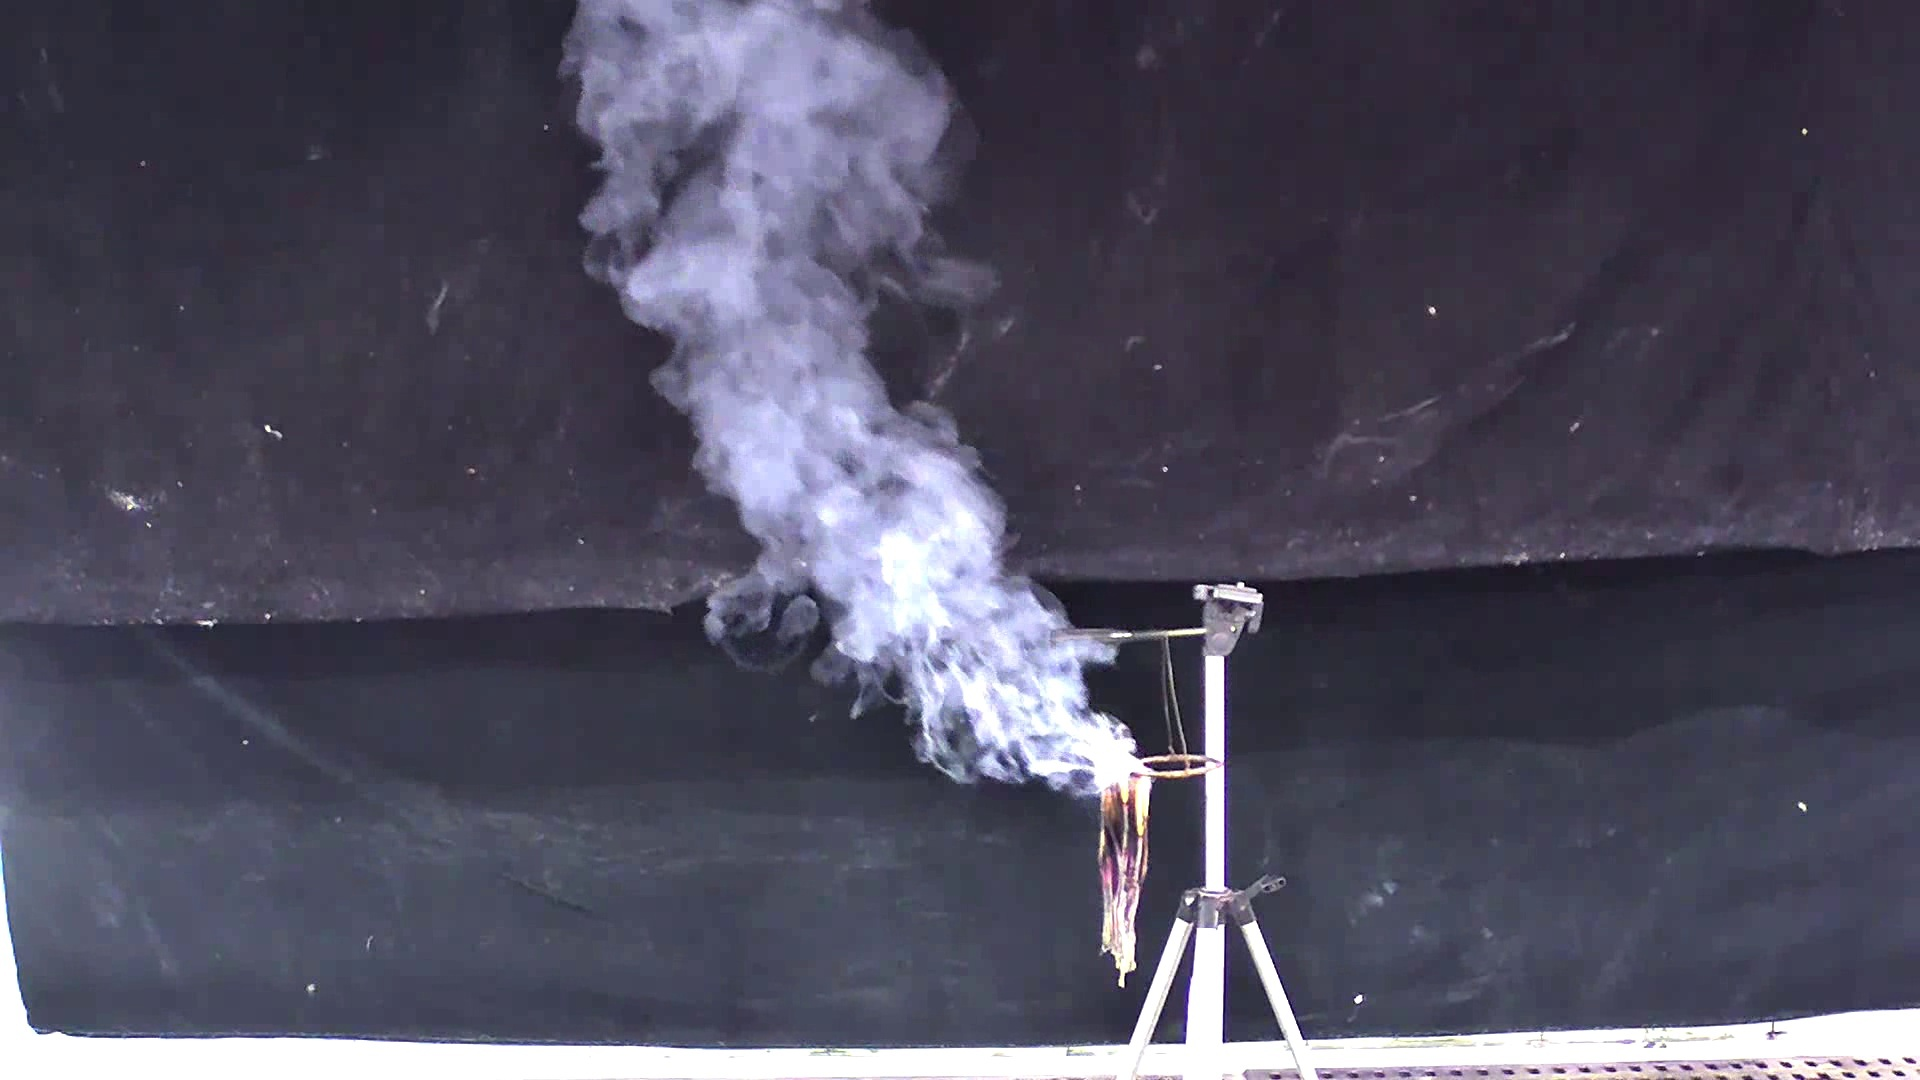smoke: (560, 3, 1154, 816)
